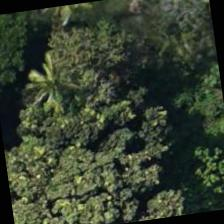Kelapa_Sawit: (0, 33, 102, 136)
